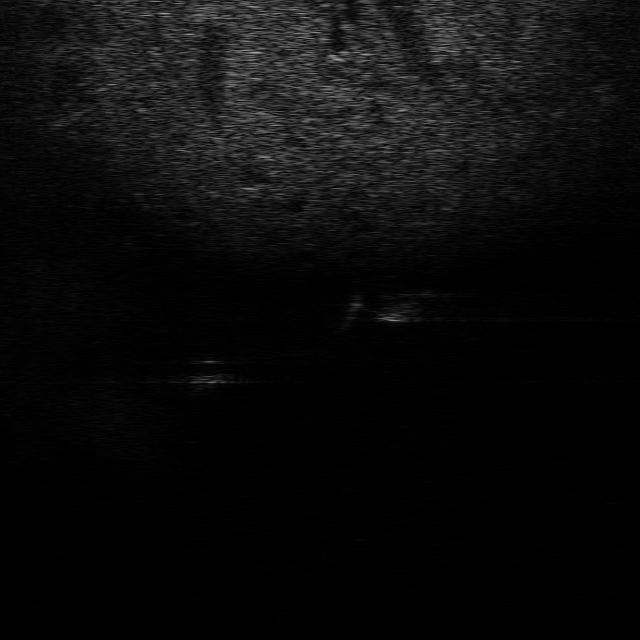ball: (181, 353, 241, 388)
human body: (338, 288, 442, 329)
